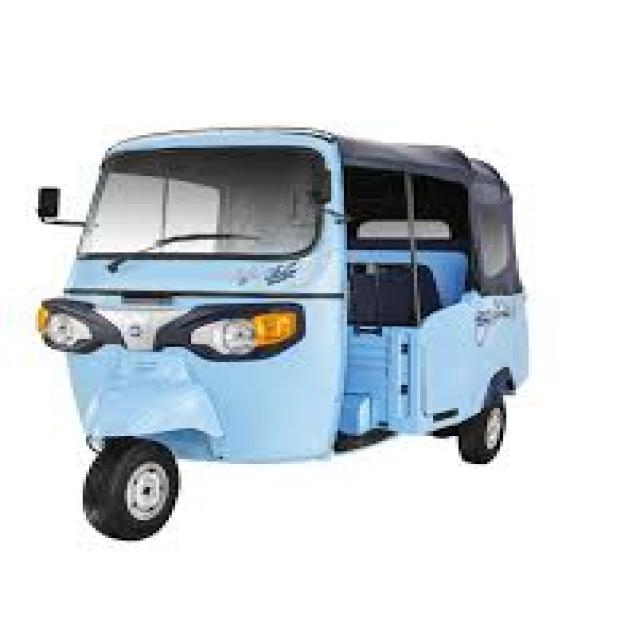tuktuk: (25, 51, 533, 554)
